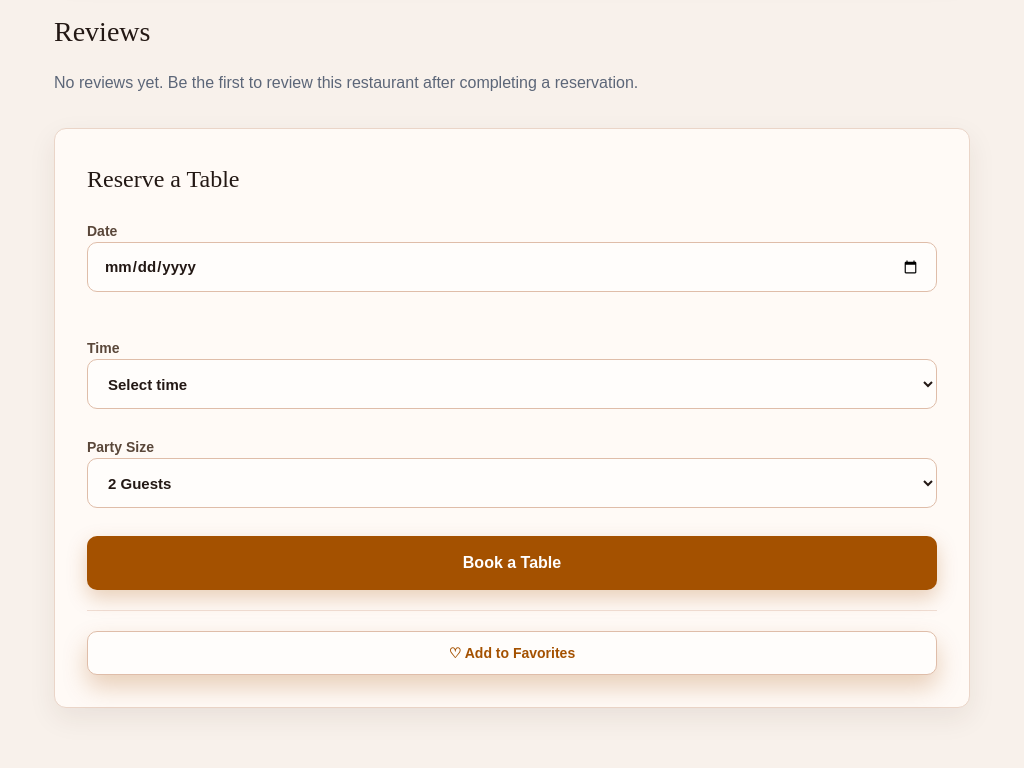
Test: validates booking date and time
This screenshot has width=1024, height=768.
(page scrolled)
Click the button "Book a Table" at [512, 563], box [87, 536, 937, 590]
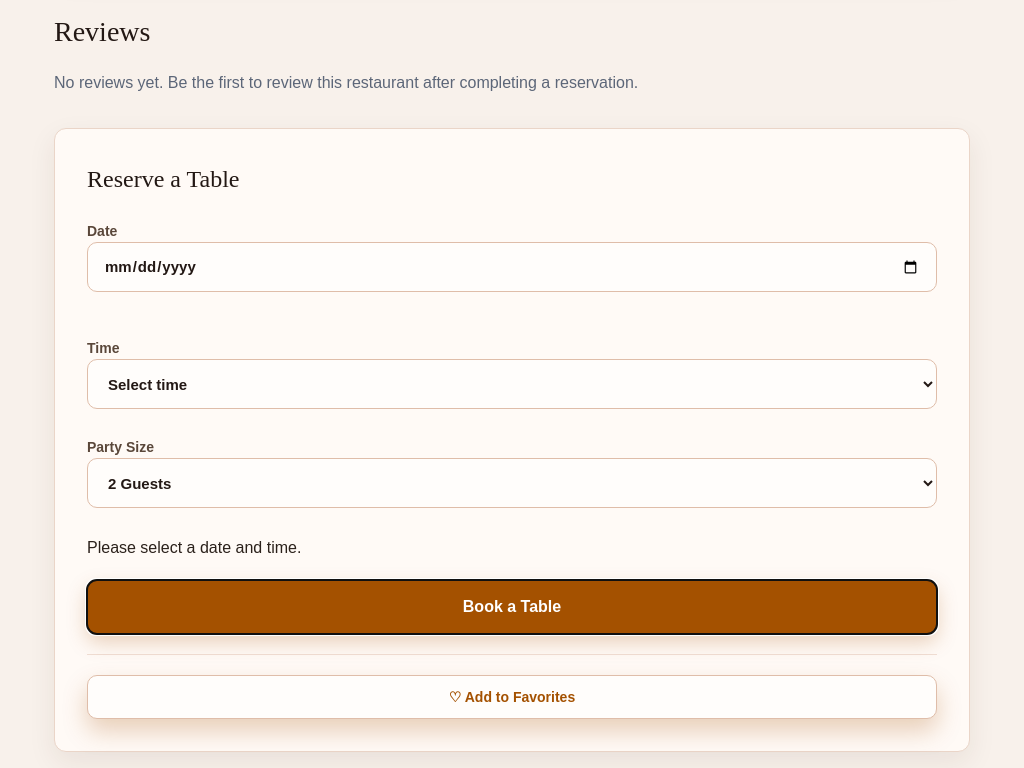
Expected: the text "Please select a date and time." is shown, [87, 539, 301, 556]
